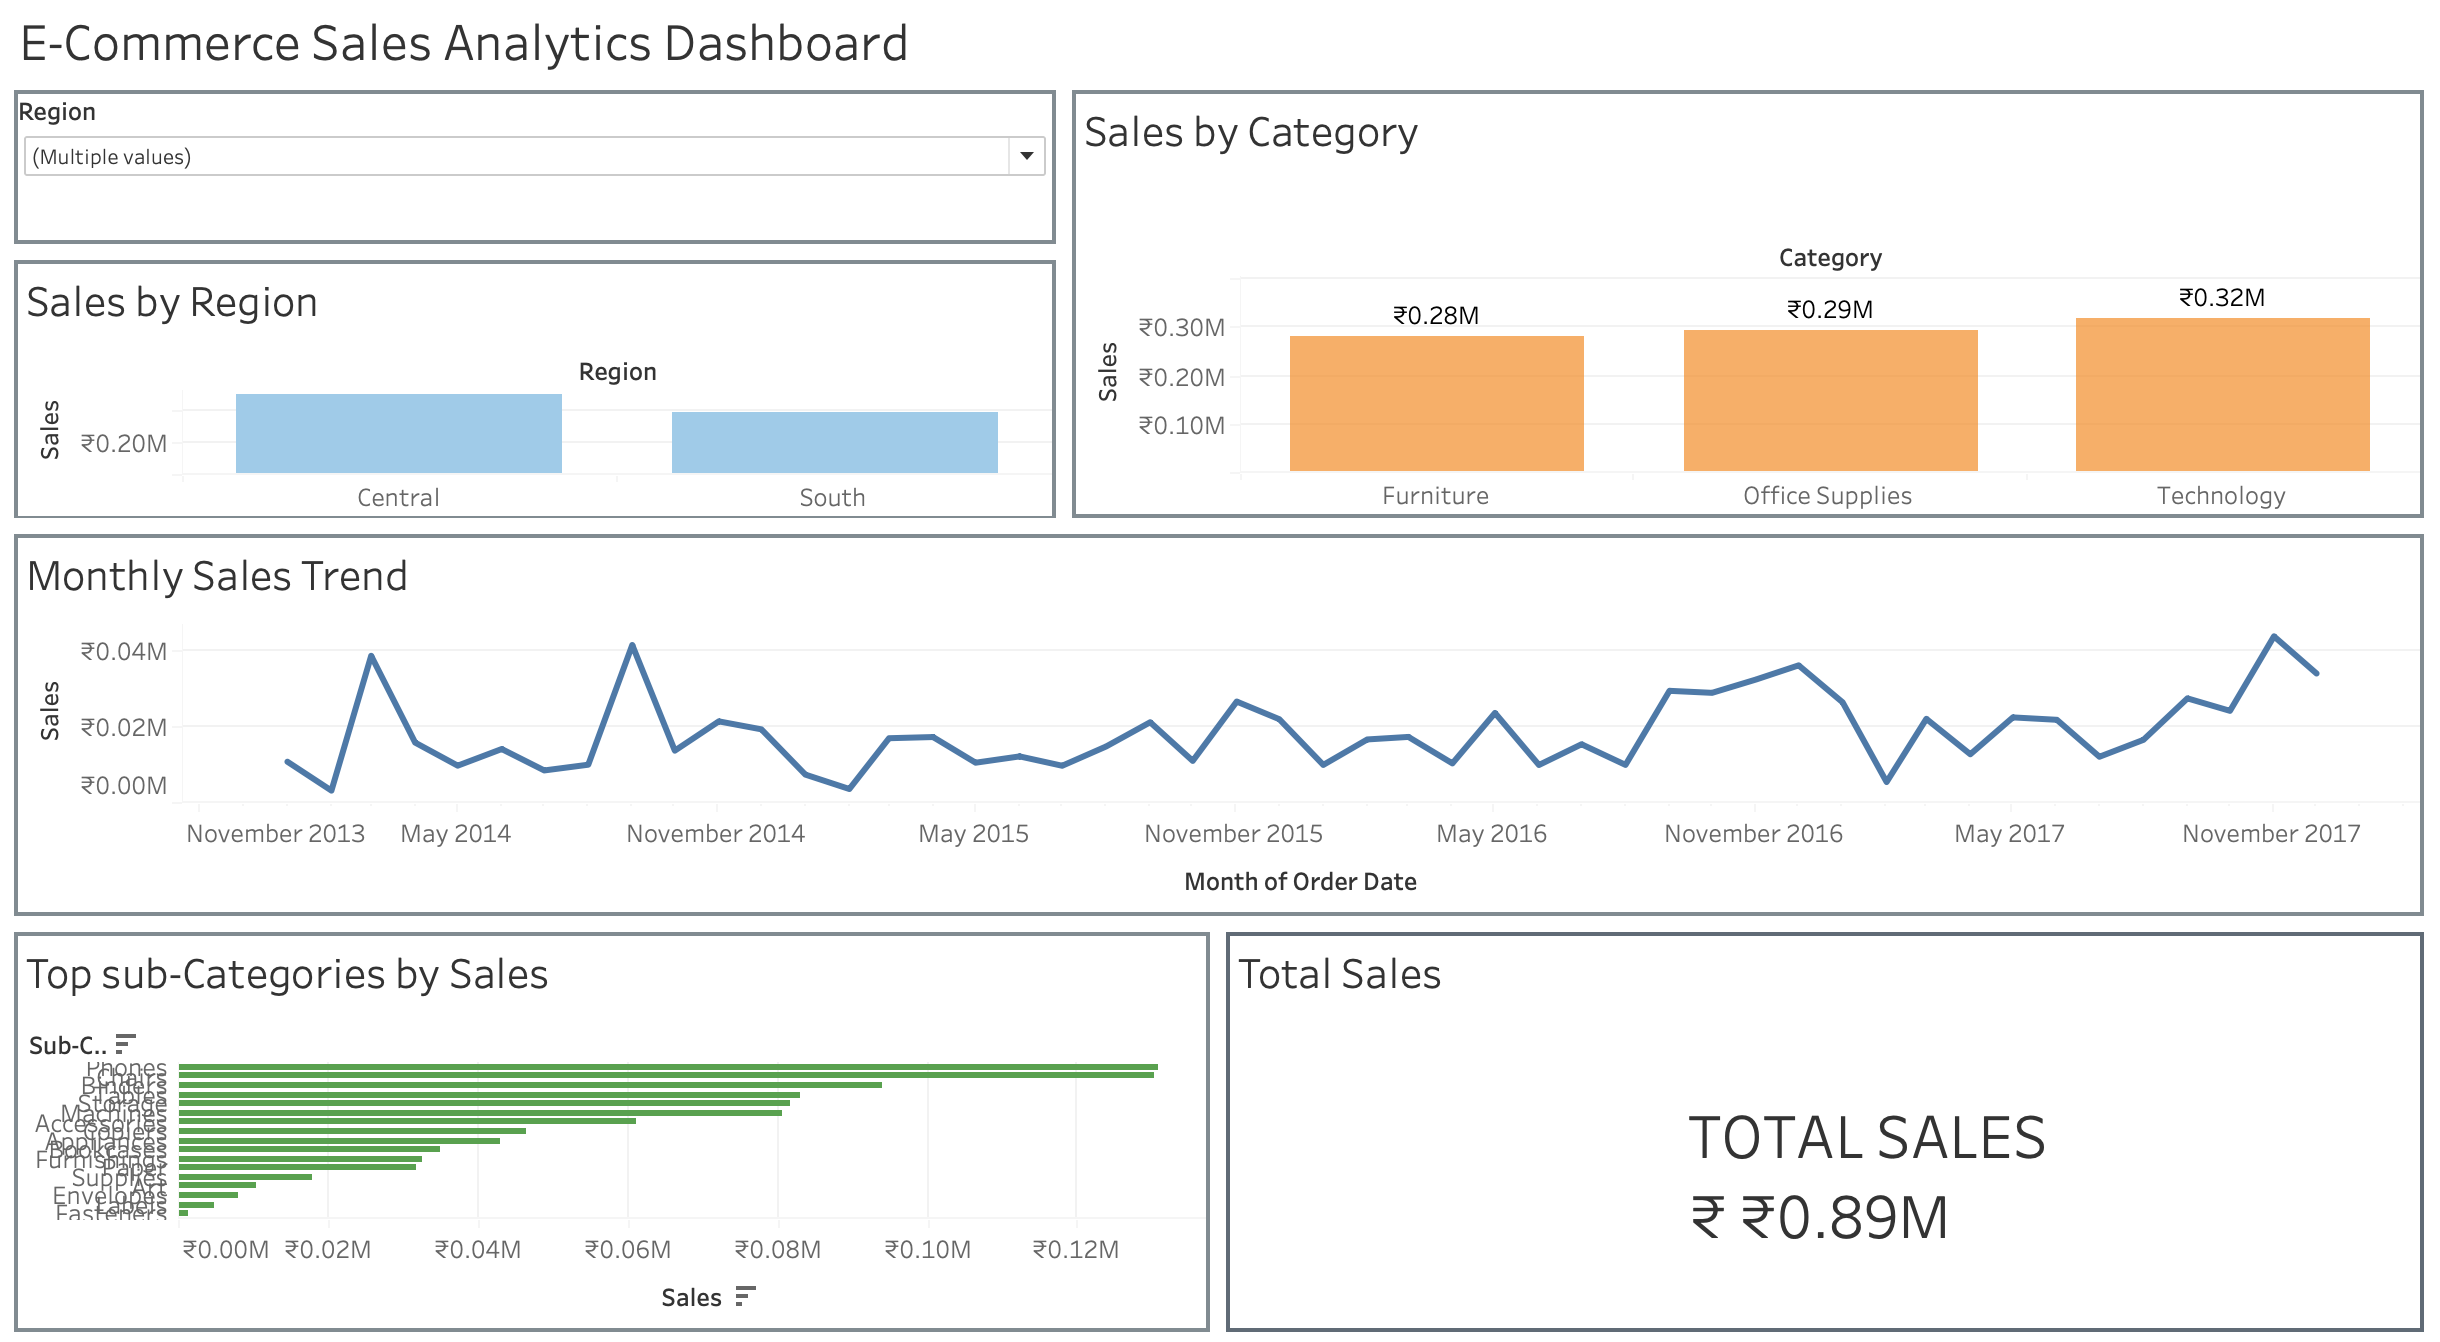

What the dashboard file says about the page in this screenshot:
{"tool":"tableau","page":{"name":"Dashboard 1","canvas":[1000,1000],"units":"permille","ordinal":0},"visuals":[{"type":"title","box":[6.5,9.9,987,50.7]},{"type":"filter","title":"Sheet 2","param":"[federated.0yon7pm034i1ci16gpn3n1evvzng].[none:Region:nk]","box":[6.5,60.6,430.4,125.2]},{"type":"worksheet","title":"Sheet 1","mark":"Automatic","rows":["Sales"],"cols":["Category"],"box":[436.9,60.6,556.6,328.4]},{"type":"worksheet","title":"Sheet 2","mark":"Automatic","rows":["Sales"],"cols":["Region"],"box":[6.5,185.8,430.4,203.2]},{"type":"worksheet","title":"Sheet 3","mark":"Automatic","rows":["Sales"],"cols":["Order Date"],"box":[6.5,389,987,294.1]},{"type":"worksheet","title":"Sheet 4","mark":"Automatic","rows":["Sub-Category"],"cols":["Sales"],"box":[6.5,683.2,493.4,306.9]},{"type":"worksheet","title":"Sheet 5","mark":"Automatic","box":[500,683.2,493.5,306.9]}]}

Visuals, with their boxes on the dashboard's canvas, which has no fixed pixel size, in thousandths of its width and height (x1, y1, x2, y2). These are canvas units, not pixel positions in the 2440x1342 screenshot, which may show the page scaled, cropped or inside an application window:
title: (6, 10, 994, 61)
"Sheet 2" filter: (6, 61, 437, 186)
"Sheet 1" worksheet: (437, 61, 994, 389)
"Sheet 2" worksheet: (6, 186, 437, 389)
"Sheet 3" worksheet: (6, 389, 994, 683)
"Sheet 4" worksheet: (6, 683, 500, 990)
"Sheet 5" worksheet: (500, 683, 994, 990)
